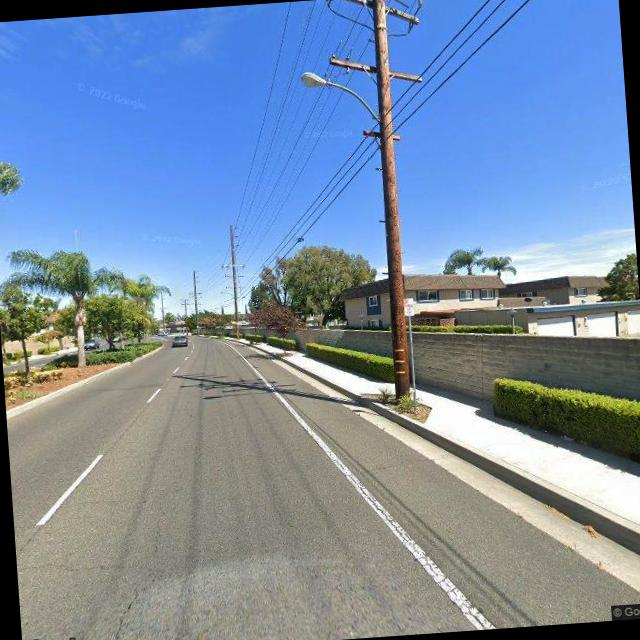crack: (105, 579, 148, 640)
